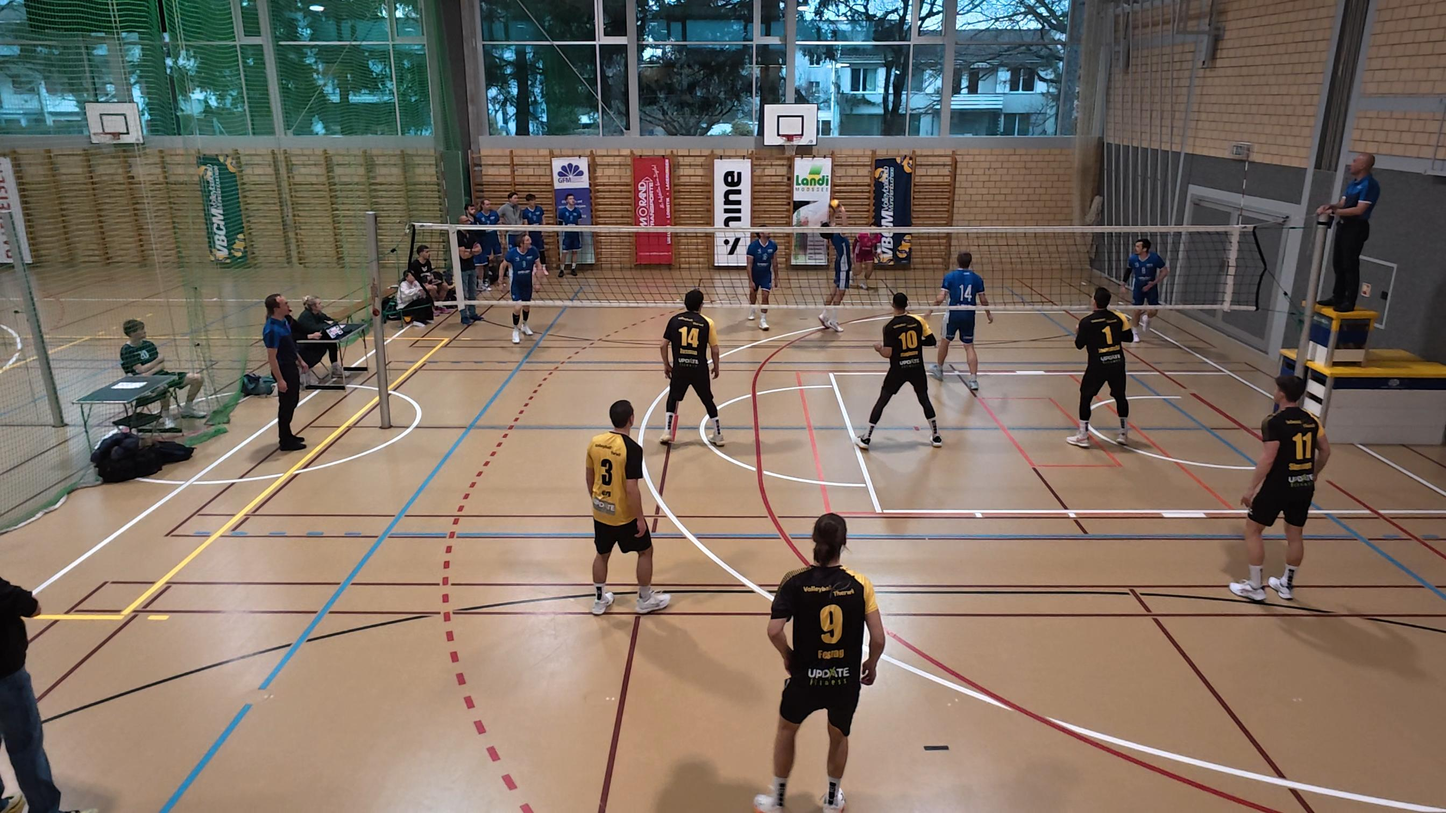alzata: (811, 198, 853, 334)
